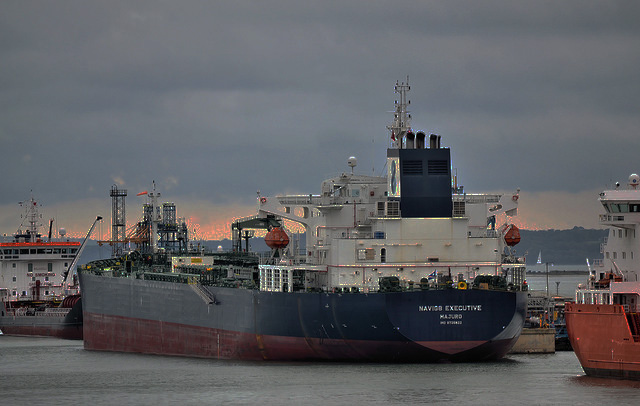tanker: (81, 72, 536, 373)
